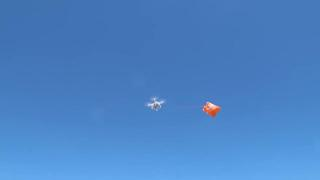UAV: (145, 96, 166, 111)
